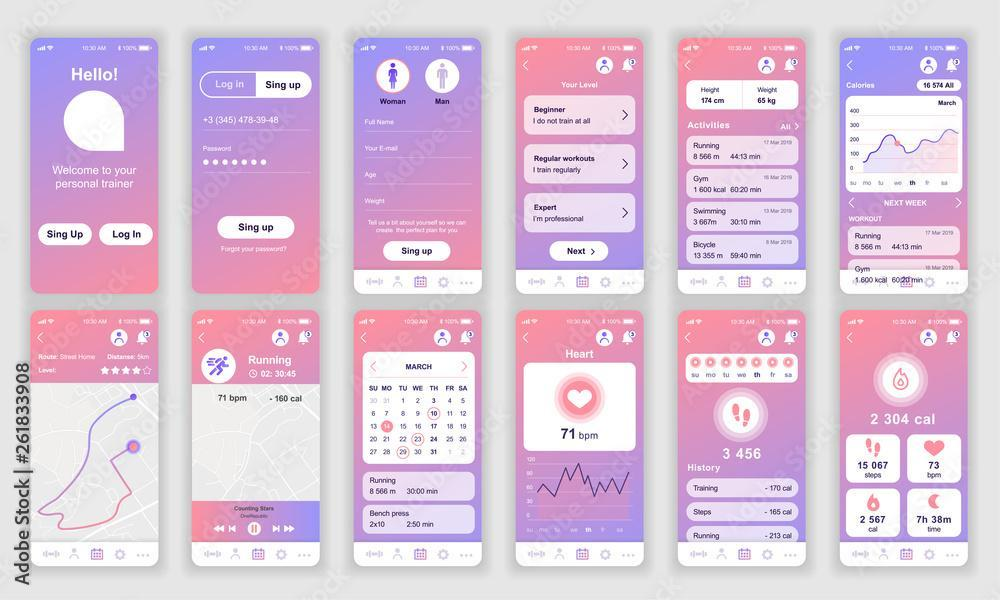button: (526, 96, 636, 137), (526, 147, 636, 184), (216, 214, 295, 242), (199, 71, 258, 99), (257, 72, 313, 99), (546, 240, 611, 263), (385, 243, 450, 263), (39, 223, 90, 246), (99, 225, 154, 246)
